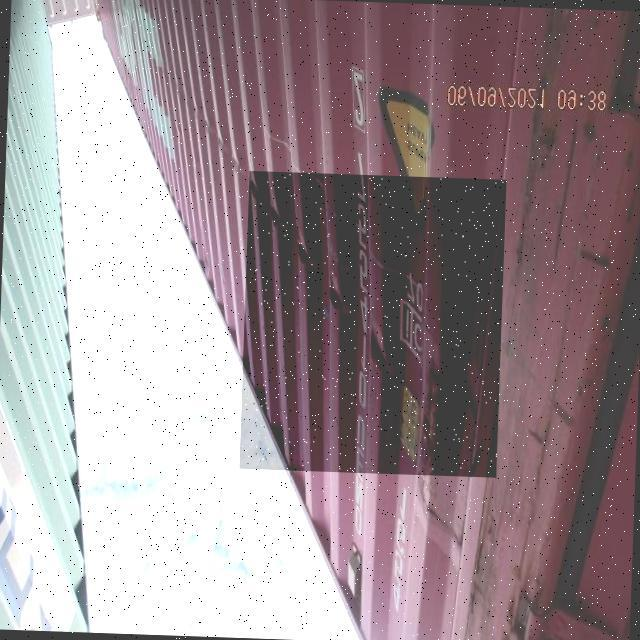Dent: (239, 171, 506, 478)
